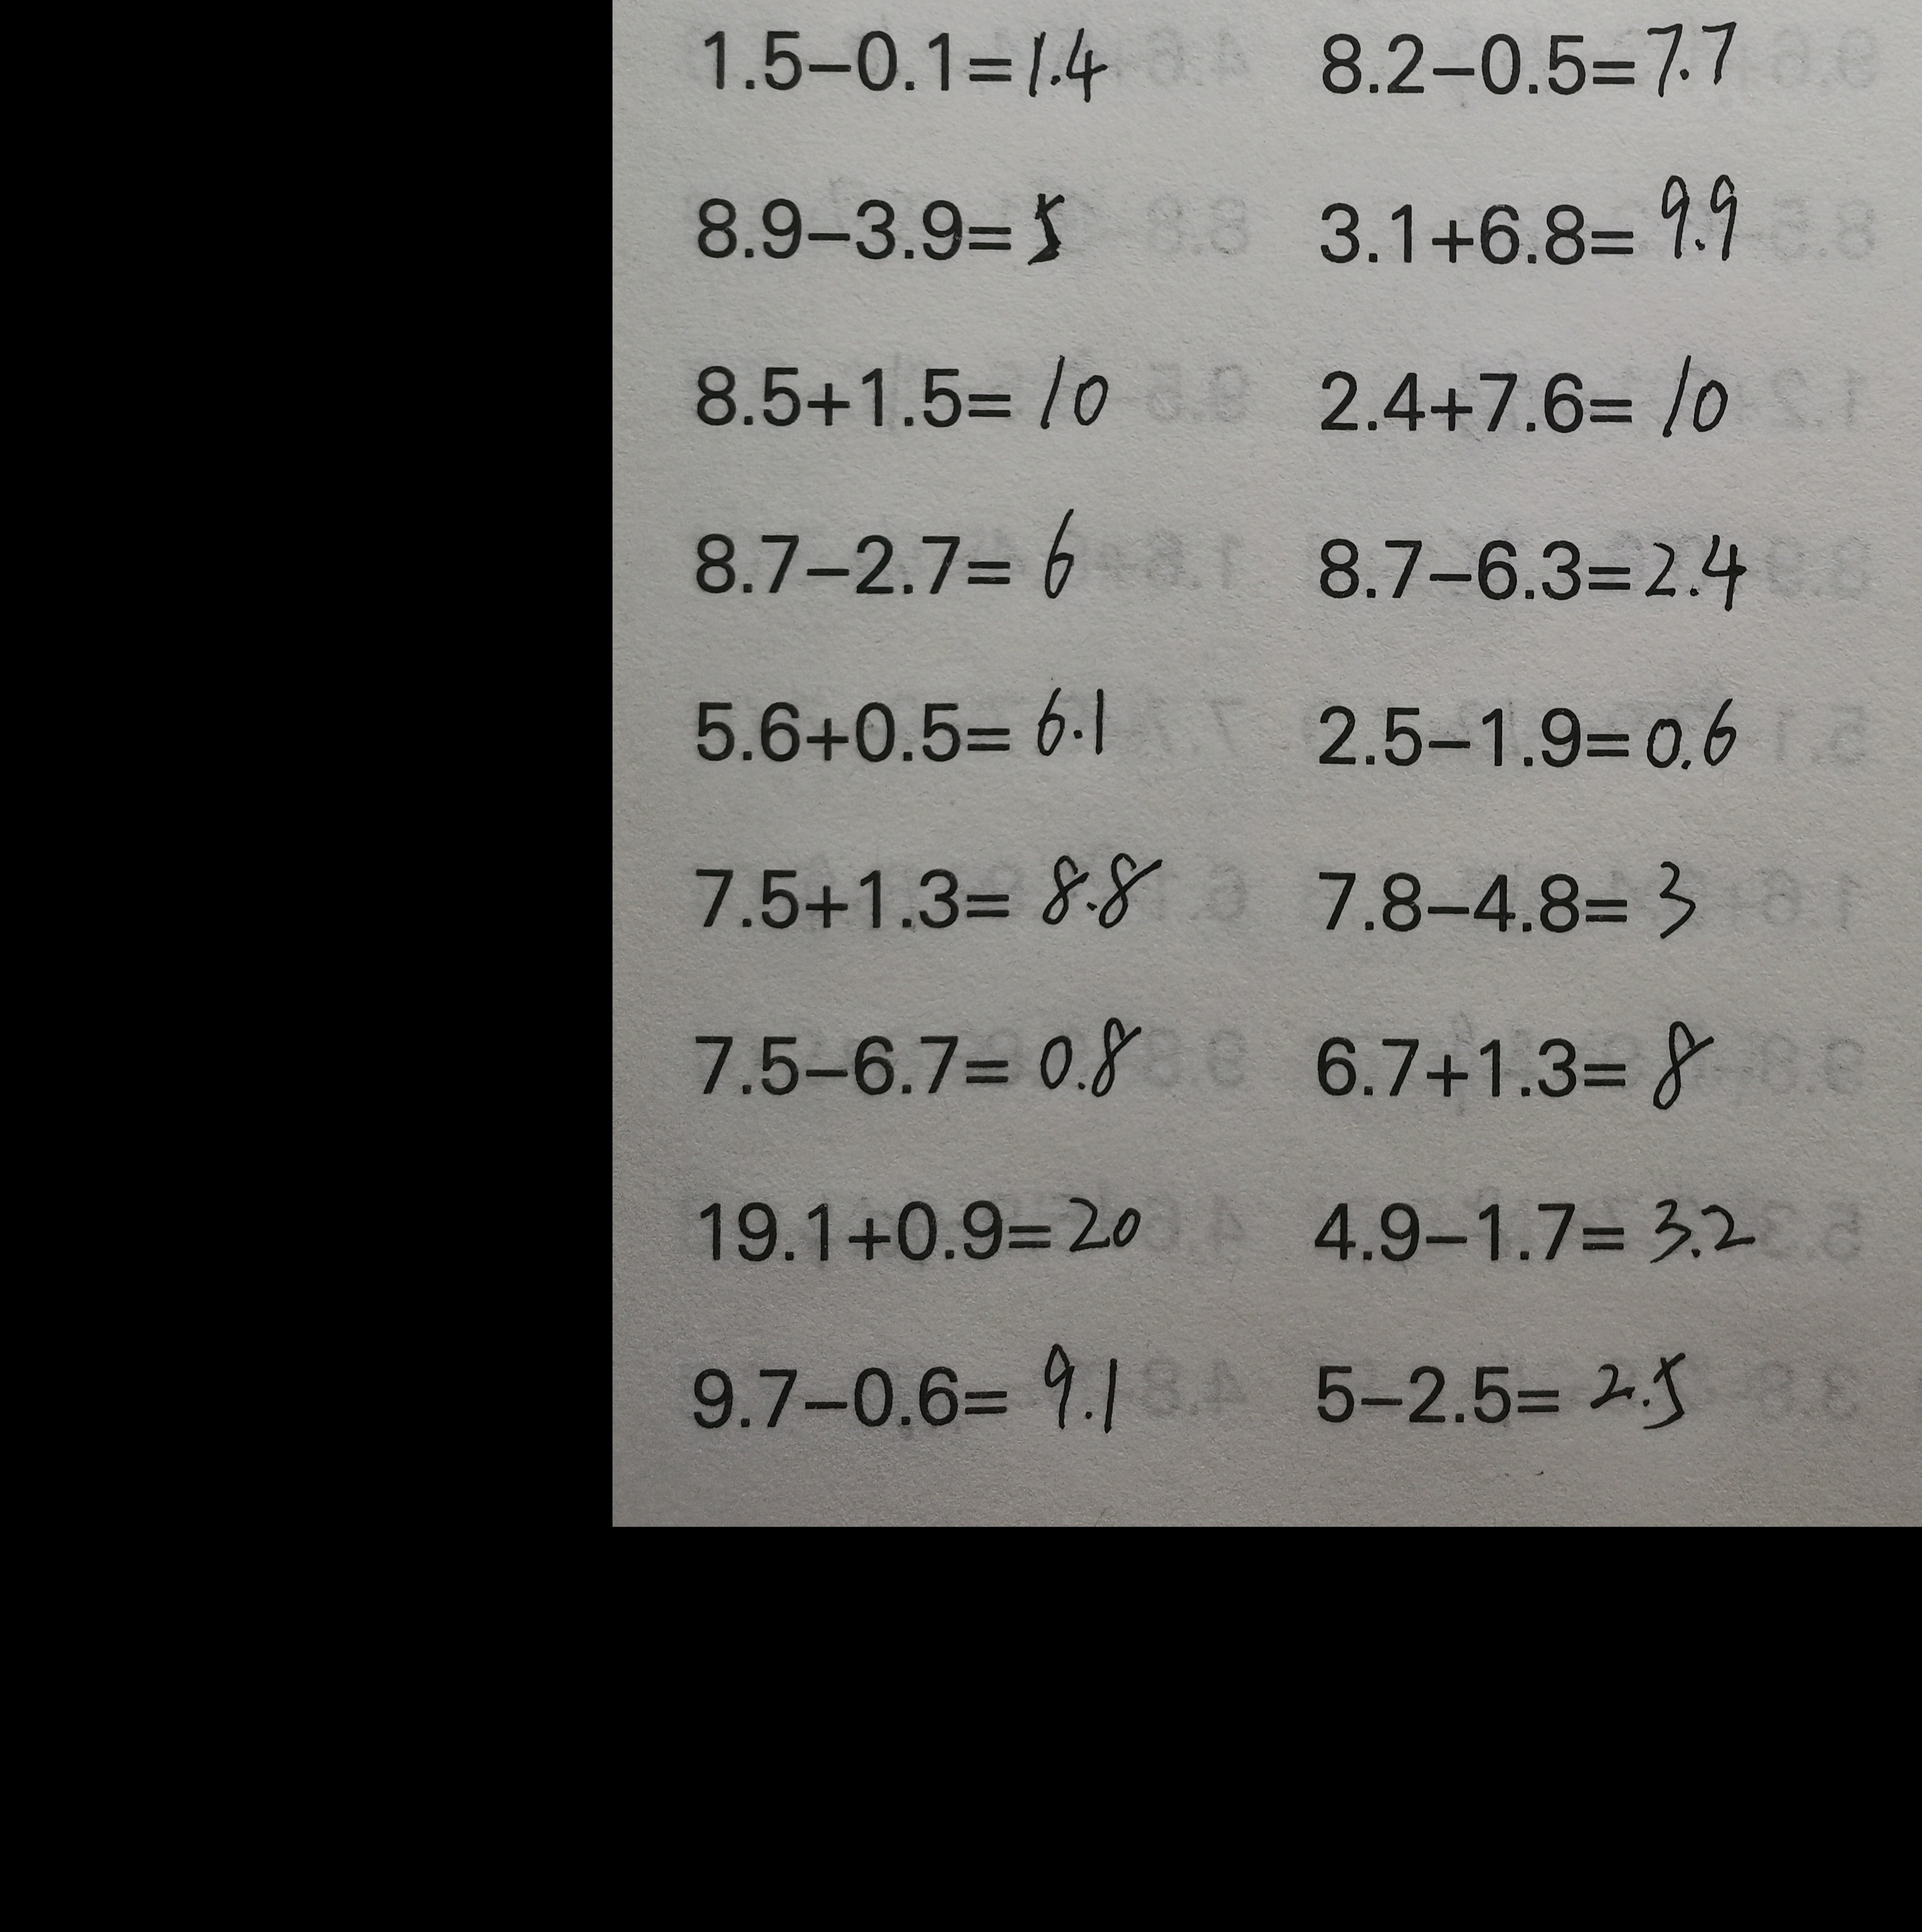equation: (667, 1335, 1156, 1455), (683, 830, 1170, 949), (1297, 1164, 1769, 1286), (1306, 505, 1758, 627), (1301, 333, 1739, 453), (1308, 159, 1769, 271), (683, 999, 1144, 1110), (1306, 997, 1718, 1120), (1294, 675, 1760, 782), (690, 1166, 1151, 1273), (679, 151, 1081, 275), (678, 667, 1116, 778), (683, 0, 1123, 109), (678, 336, 1116, 446), (1301, 1326, 1702, 1444), (660, 502, 1105, 608), (1304, 844, 1718, 953), (1311, 11, 1755, 106), (1903, 847, 1922, 976), (1910, 1180, 1922, 1302), (1911, 1011, 1922, 1131)
